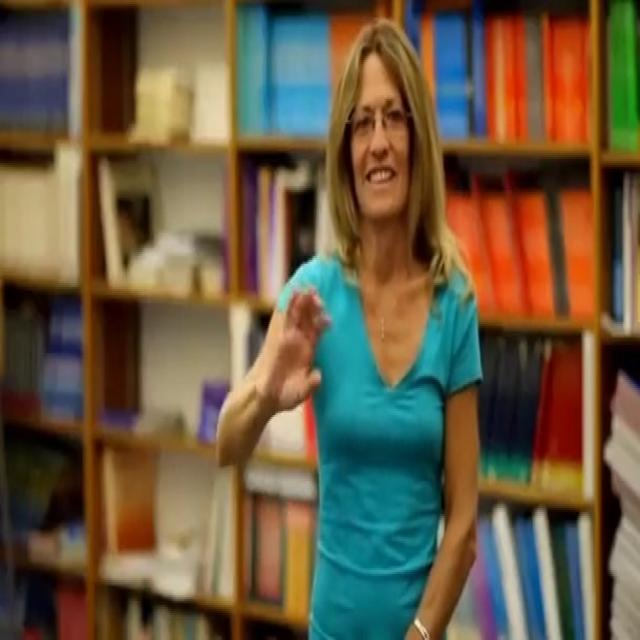pepper: (274, 276, 334, 416)
